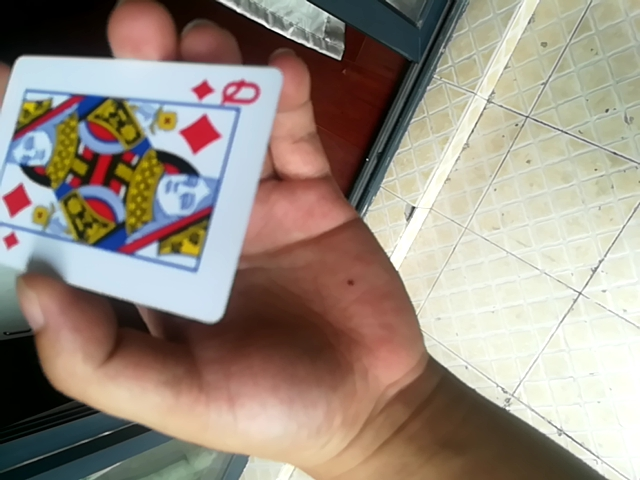fk q: (0, 55, 283, 325)
